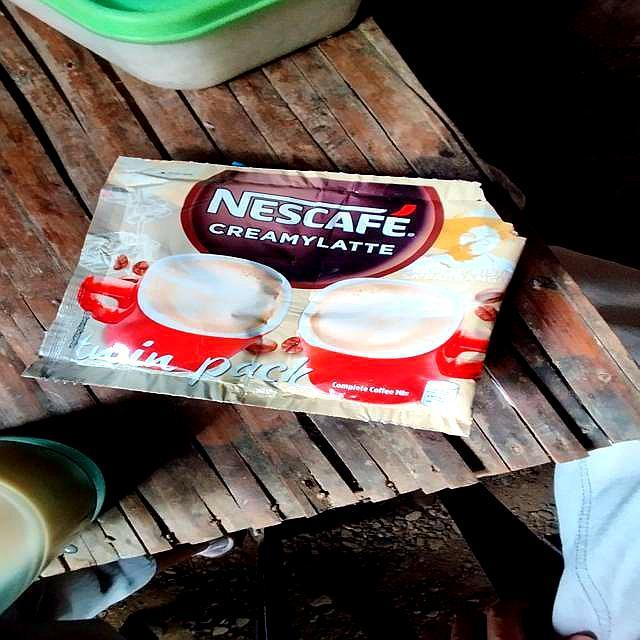Non-biodegradable: (17, 151, 547, 447)
